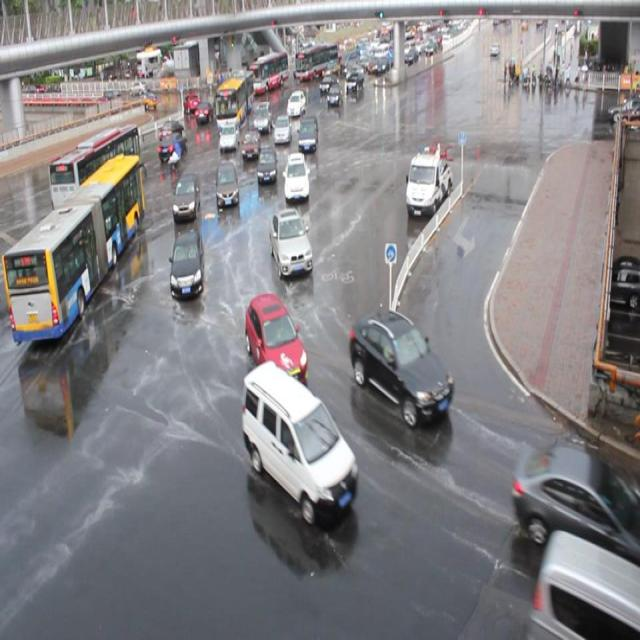bus: (404, 148, 452, 216)
car: (512, 443, 640, 567), (350, 307, 455, 428), (244, 292, 309, 388), (268, 207, 312, 275), (170, 229, 206, 298), (172, 172, 200, 220), (283, 152, 309, 198), (214, 161, 240, 206), (296, 114, 319, 151), (157, 132, 188, 158), (256, 147, 278, 182), (253, 100, 273, 132), (158, 119, 185, 142), (241, 130, 261, 158), (219, 121, 239, 149), (273, 114, 292, 142), (286, 90, 305, 116), (194, 101, 213, 123), (181, 92, 200, 113), (326, 83, 343, 105)
truck: (243, 360, 359, 522)
van: (1, 154, 145, 341), (47, 122, 141, 229), (215, 68, 254, 131)
